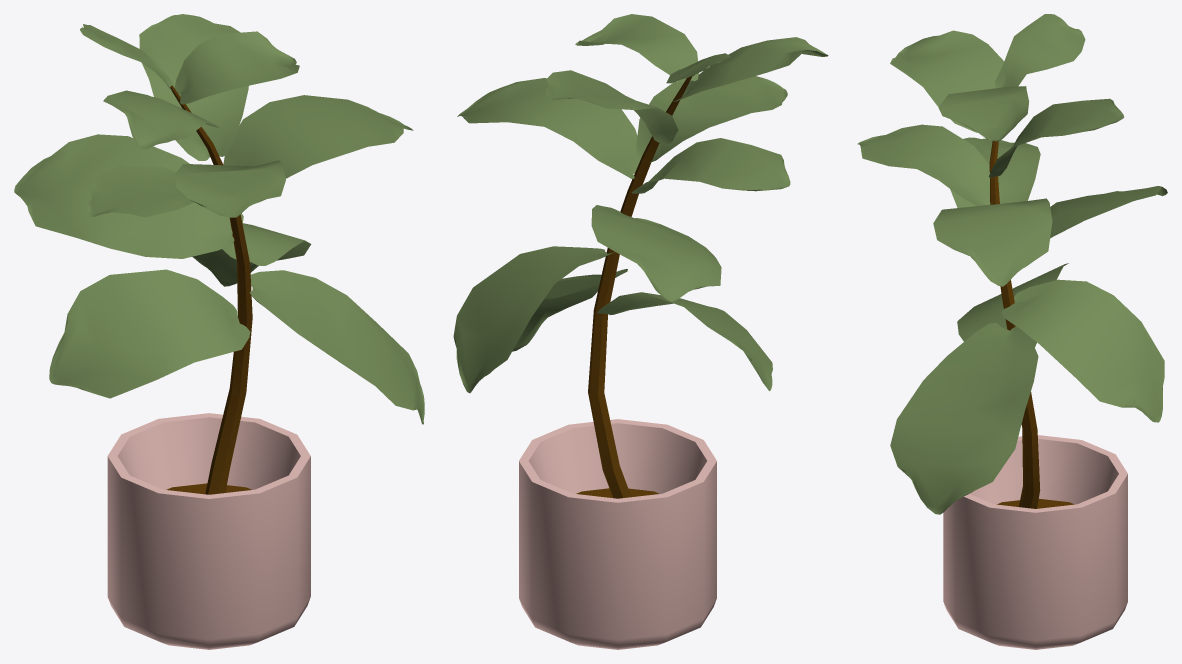
Rendered from flower1.fbx.
3 renders of one model, left to right at view 1: azimuth 30°, elevation 25°; view 2: azimuth 150°, elevation 25°; view 3: azimuth 270°, elevation 25°, orthographic. The views are drawn at different scales.
Parts seen in each view (by area): view 1: flower1; view 2: flower1; view 3: flower1.
Boxes of the visible parts, x1,y1,x2,y2 form: flower1: (14, 14, 424, 649); flower1: (453, 14, 828, 649); flower1: (857, 14, 1167, 649).
Bounding box in the file's own units: 7.14 × 6.22 × 12.17.
